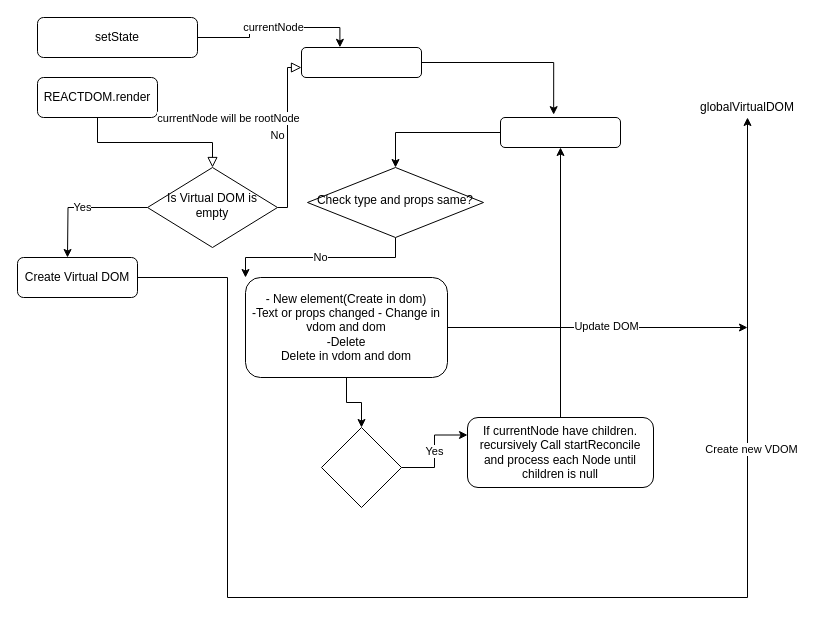
This 814x623 diagram has some shape labels left out. The centre of each missing label's shape, as x and y in pixels:
currentNode.children is null: [361,467]
set Current Processing node: [361,62]
startReconciling: [560,132]
